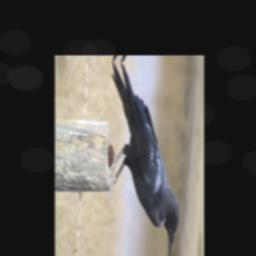Crow: (105, 62, 184, 256)
